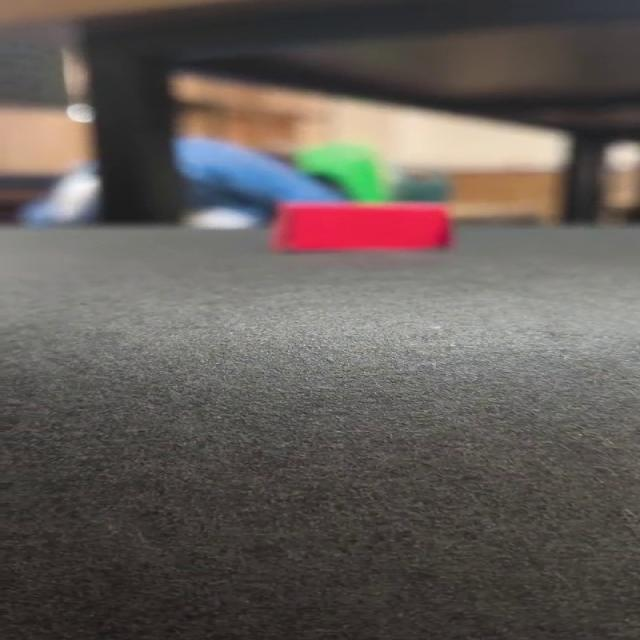red block: (268, 200, 452, 253)
